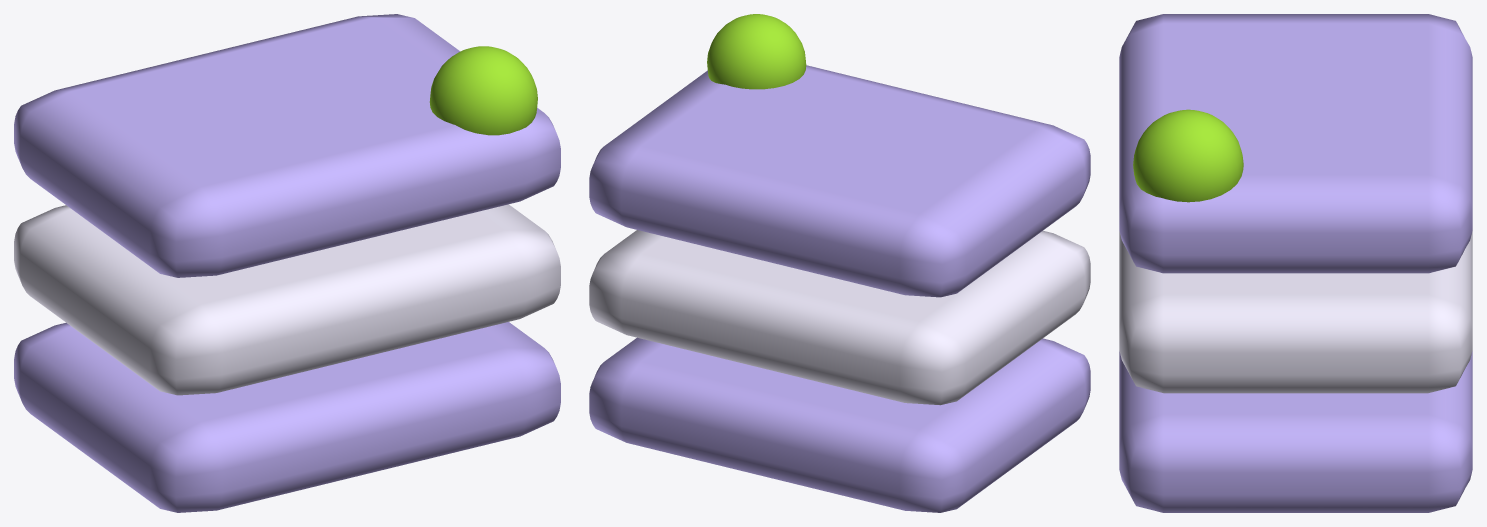
File: stack.glb
The picture shows the model from 3 angles, left to right: view 1: azimuth 30°, elevation 25°; view 2: azimuth 150°, elevation 25°; view 3: azimuth 270°, elevation 25°; orthographic projection. The views are drawn at different scales.
Visible parts, largest first — view 1: stack; view 2: stack; view 3: stack.
Part boxes in pixels (x1,y1,x2,y2): stack: (14,14,560,512); stack: (589,14,1090,512); stack: (1119,14,1472,512).
Size of the model in its own units: 1.55 by 1.38 by 1.15.
